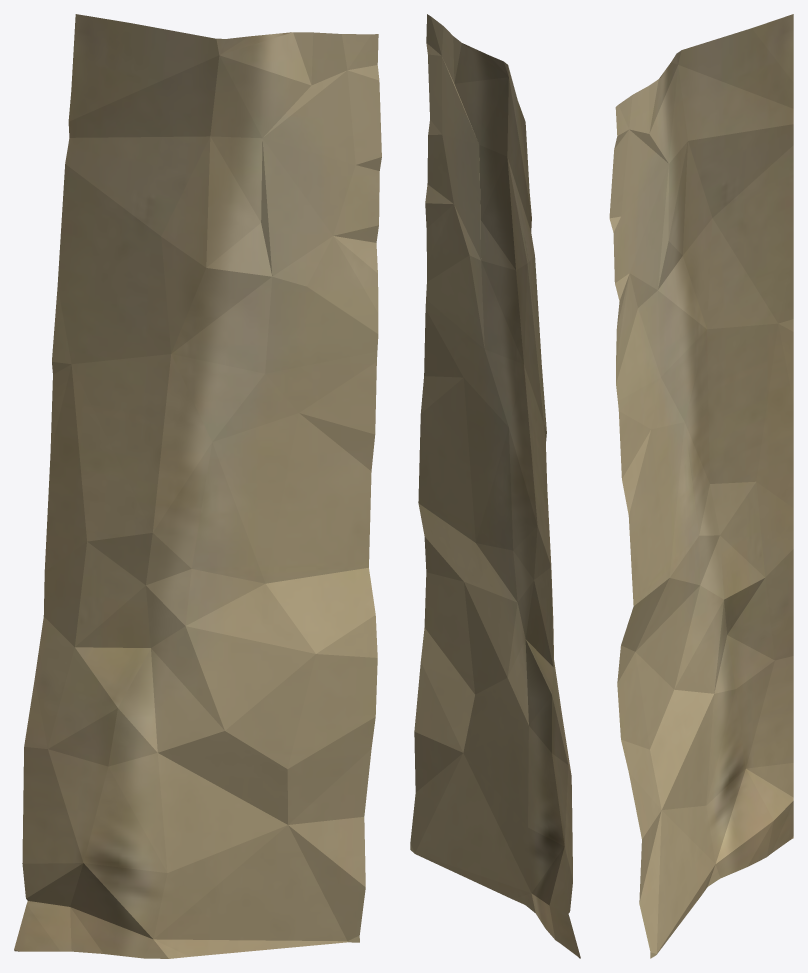
3 renders of one model, left to right at view 1: azimuth 30°, elevation 25°; view 2: azimuth 150°, elevation 25°; view 3: azimuth 270°, elevation 25°, orthographic. The views are drawn at different scales.
Size of the model in its own units: 0.2549 by 0.8374 by 0.1639.
1 material, 1 textured.
